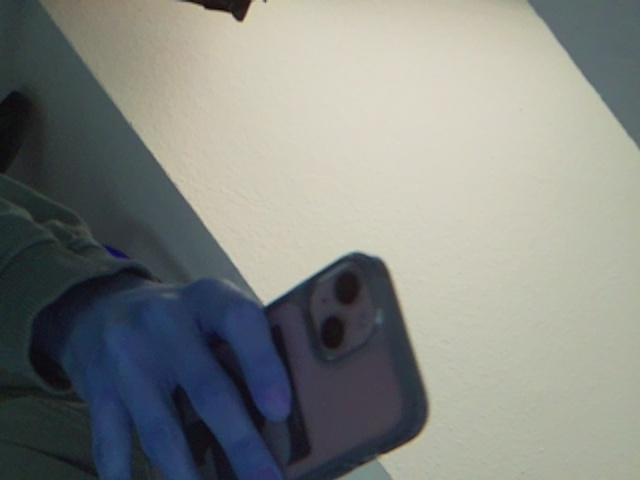cell phone: (107, 232, 431, 480)
